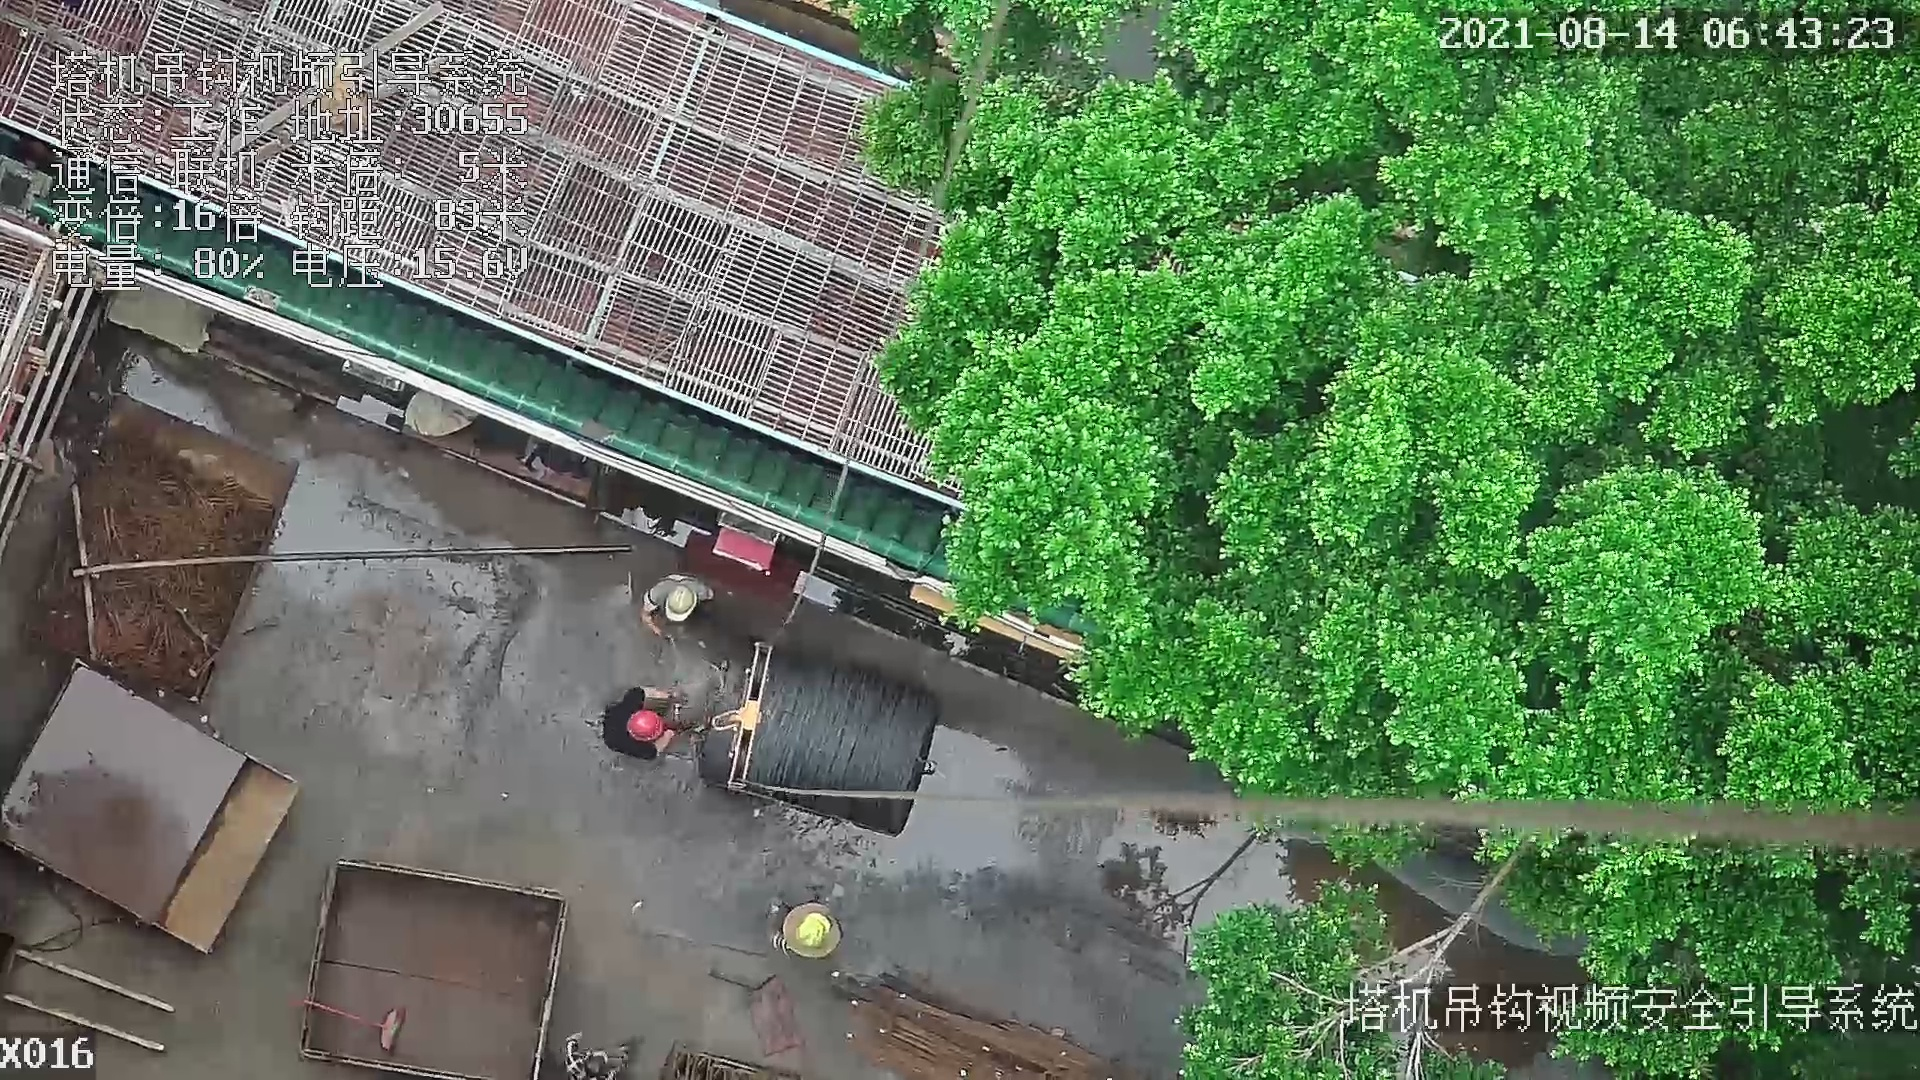helmet: (658, 576, 699, 627), (622, 705, 666, 745), (797, 912, 837, 948)
person: (591, 697, 683, 773), (626, 573, 722, 644), (774, 903, 865, 965), (556, 1030, 639, 1080)
